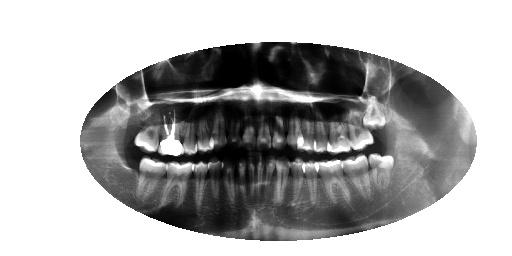i10decay: (233, 150, 249, 218)
i11decay: (219, 159, 242, 219)
i13healthy: (203, 154, 225, 219)
i14healthy: (189, 154, 208, 220)
i15healthy: (159, 157, 196, 220)
i16healthy: (130, 153, 169, 209)
i1healthy: (363, 146, 399, 197)
i2healthy: (338, 149, 370, 205)
i3healthy: (312, 154, 354, 214)
i4healthy: (299, 156, 322, 212)
i5healthy: (287, 154, 305, 214)
i6healthy: (272, 154, 293, 214)
i7healthy: (264, 153, 276, 213)
i8healthy: (253, 152, 267, 214)
i9healthy: (244, 151, 256, 213)
u10decay: (223, 96, 242, 158)
u11healthy: (206, 97, 229, 155)
u12healthy: (193, 100, 215, 154)
u13healthy: (177, 101, 198, 157)
u14healthy: (154, 101, 184, 162)
u15healthy: (128, 97, 164, 159)
u1healthy: (361, 91, 388, 136)
u2healthy: (343, 102, 376, 156)
u3healthy: (322, 110, 355, 158)
u4healthy: (307, 107, 331, 155)
u5healthy: (292, 106, 318, 157)
u6healthy: (281, 103, 305, 153)
u7healthy: (268, 99, 288, 153)
u8healthy: (252, 99, 273, 153)
u9healthy: (240, 99, 258, 160)
